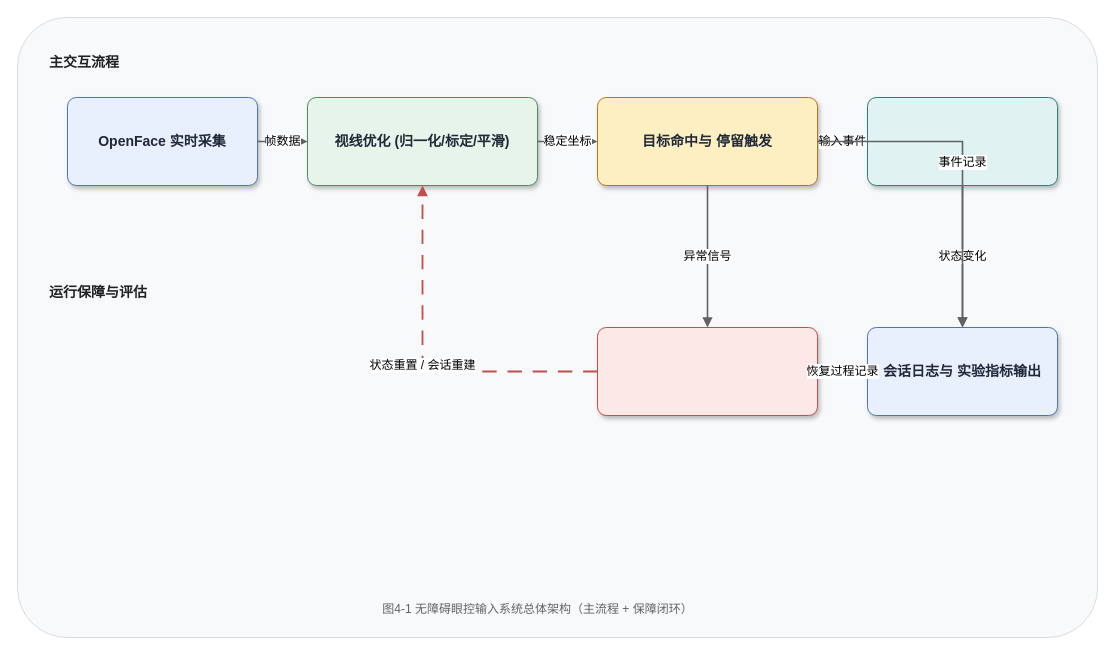
This 1115x655 diagram has some shape labels left out. Here are the shapes that lost their labels. From the top down, the centre of each, then its label:
At pixel 963 142: "文本状态更新".
At pixel 708 372: "运行异常检测 与恢复机制".
